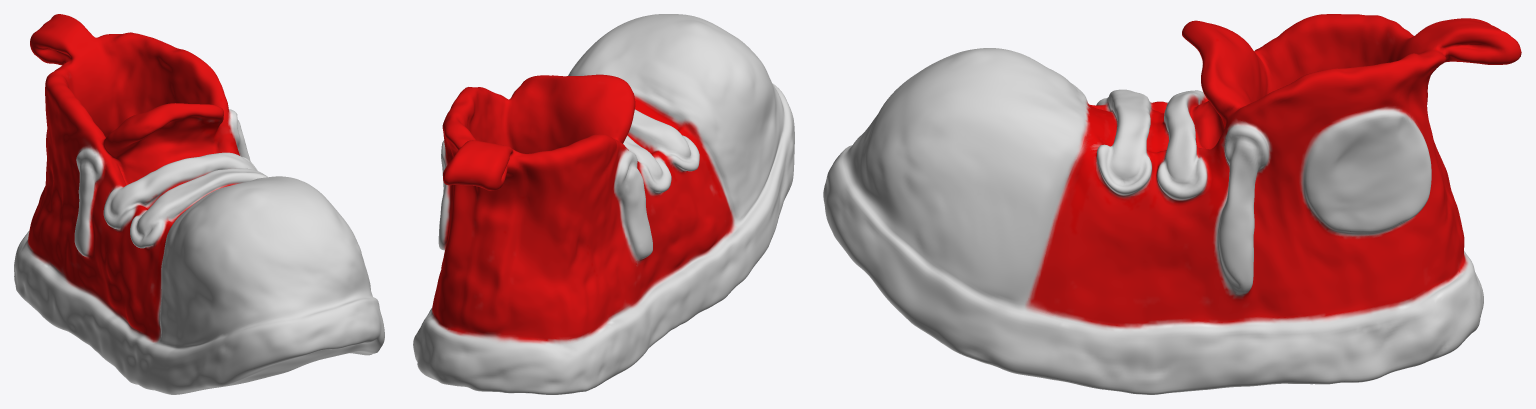
File: red-claymation-shoe.glb
3 renders of one model, left to right at view 1: azimuth 30°, elevation 25°; view 2: azimuth 150°, elevation 25°; view 3: azimuth 270°, elevation 25°, orthographic. The views are drawn at different scales.
Visible parts, largest first — view 1: clayshoe 5; view 2: clayshoe 5; view 3: clayshoe 5.
Boxes of the visible parts, <box> form: clayshoe 5: <box>14,14,384,394</box>; clayshoe 5: <box>413,14,794,394</box>; clayshoe 5: <box>823,14,1521,394</box>.
Size of the model in its own units: 32.56 by 37.39 by 77.15.
1 material, 1 textured.
